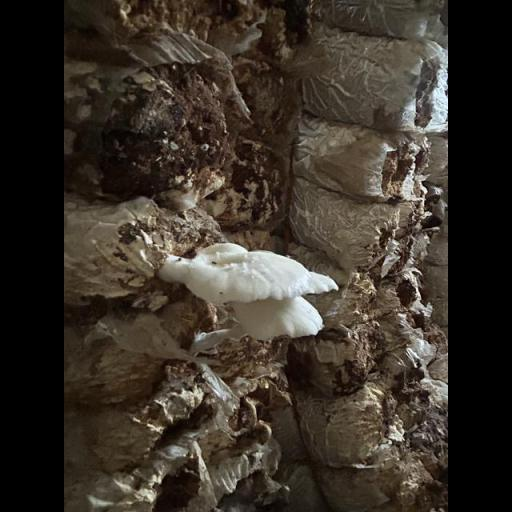White Oyster Mushroom: (156, 224, 340, 348)
